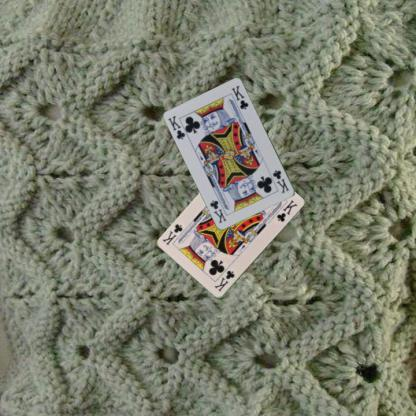Kc: (211, 268, 236, 293), (166, 113, 186, 140), (270, 168, 290, 194)
